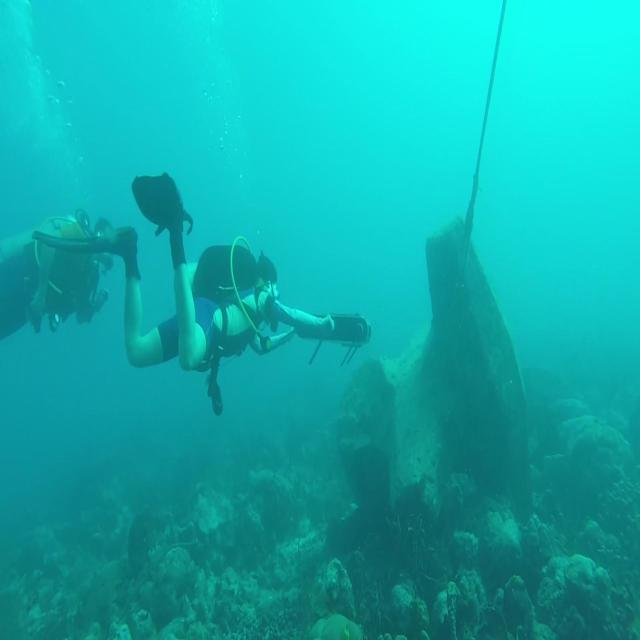human: (118, 171, 371, 416), (0, 206, 140, 341)
